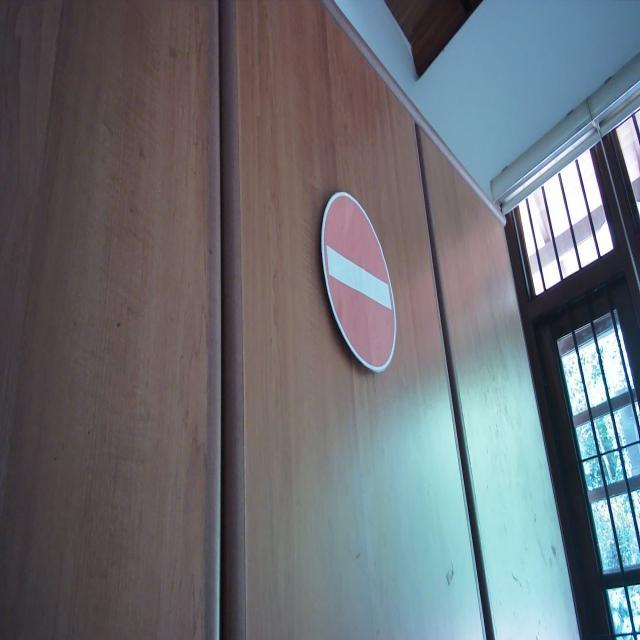no_entry: (319, 188, 399, 378)
